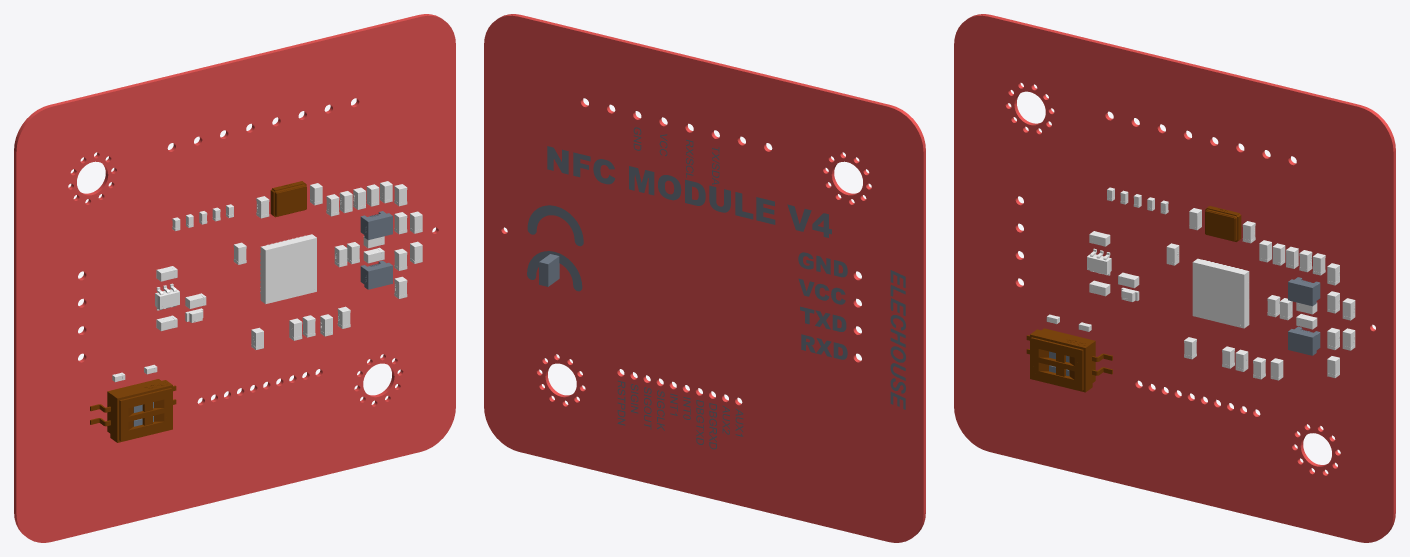
The model's file is reference.glb.
3 views of the same model, side by side, from view 1: azimuth 30°, elevation 25°; view 2: azimuth 150°, elevation 25°; view 3: azimuth 330°, elevation 25° (orthographic).
Parts seen in each view (by area): view 1: Board~KiIk, 拨码开关_1.27*2_宽~SW-SMD_2P-L5.4-W4.1-P1.27-LS8.4~hyxs, QFN_40~QFN-40_L5.0-W5.0-P0.40-TL-EP3.7~MsY5, 3D_NFC_EASY_SHIELD_V4.1_2025-12-13, XTAL2-MHZ-3225~SMD-4_3225-ACM3225~X8cL; view 2: Board~KiIk, 3D_NFC_EASY_SHIELD_V4.1_2025-12-13, CE认证~default_model~KiIk; view 3: Board~KiIk, 拨码开关_1.27*2_宽~SW-SMD_2P-L5.4-W4.1-P1.27-LS8.4~hyxs, QFN_40~QFN-40_L5.0-W5.0-P0.40-TL-EP3.7~MsY5, 3D_NFC_EASY_SHIELD_V4.1_2025-12-13, XTAL2-MHZ-3225~SMD-4_3225-ACM3225~X8cL, SOT23_UMT_6-LEADS~SOT-363-6_L2.0-W1.3-P0.65-LS2.1-TL~5E6K.
Boxes of the visible parts, box(x1,y1,x2,y2) form: Board~KiIk: box(14, 14, 455, 542); 拨码开关_1.27*2_宽~SW-SMD_2P-L5.4-W4.1-P1.27-LS8.4~hyxs: box(90, 379, 176, 442); QFN_40~QFN-40_L5.0-W5.0-P0.40-TL-EP3.7~MsY5: box(260, 234, 316, 303); 3D_NFC_EASY_SHIELD_V4.1_2025-12-13: box(360, 211, 392, 289); XTAL2-MHZ-3225~SMD-4_3225-ACM3225~X8cL: box(270, 181, 306, 217); Board~KiIk: box(484, 14, 925, 542); 3D_NFC_EASY_SHIELD_V4.1_2025-12-13: box(527, 127, 905, 449); CE认证~default_model~KiIk: box(539, 254, 559, 286); Board~KiIk: box(954, 14, 1395, 542); 拨码开关_1.27*2_宽~SW-SMD_2P-L5.4-W4.1-P1.27-LS8.4~hyxs: box(1026, 328, 1112, 392); QFN_40~QFN-40_L5.0-W5.0-P0.40-TL-EP3.7~MsY5: box(1192, 258, 1249, 328); 3D_NFC_EASY_SHIELD_V4.1_2025-12-13: box(1288, 277, 1320, 355); XTAL2-MHZ-3225~SMD-4_3225-ACM3225~X8cL: box(1205, 206, 1241, 241); SOT23_UMT_6-LEADS~SOT-363-6_L2.0-W1.3-P0.65-LS2.1-TL~5E6K: box(1087, 248, 1111, 275).
Bounding box in the file's own units: 42.68 × 40.38 × 4.61.
